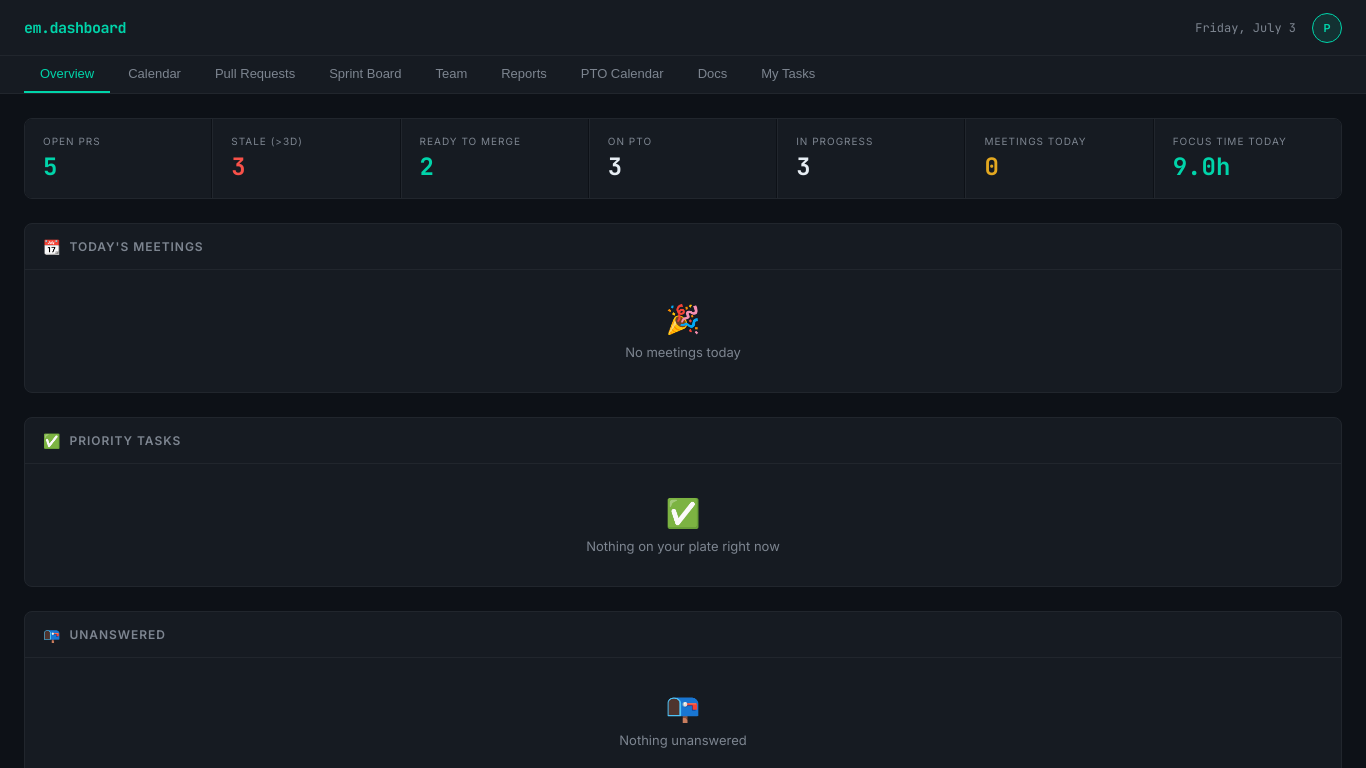
Scenario: App — tab navigation › has a Reports tab so ReportsManager is reachable
Expected: the text "Today's Meetings" is shown, 69,239 -> 204,254
Click the button "Reports" at (524, 74), box 485,56 -> 563,93
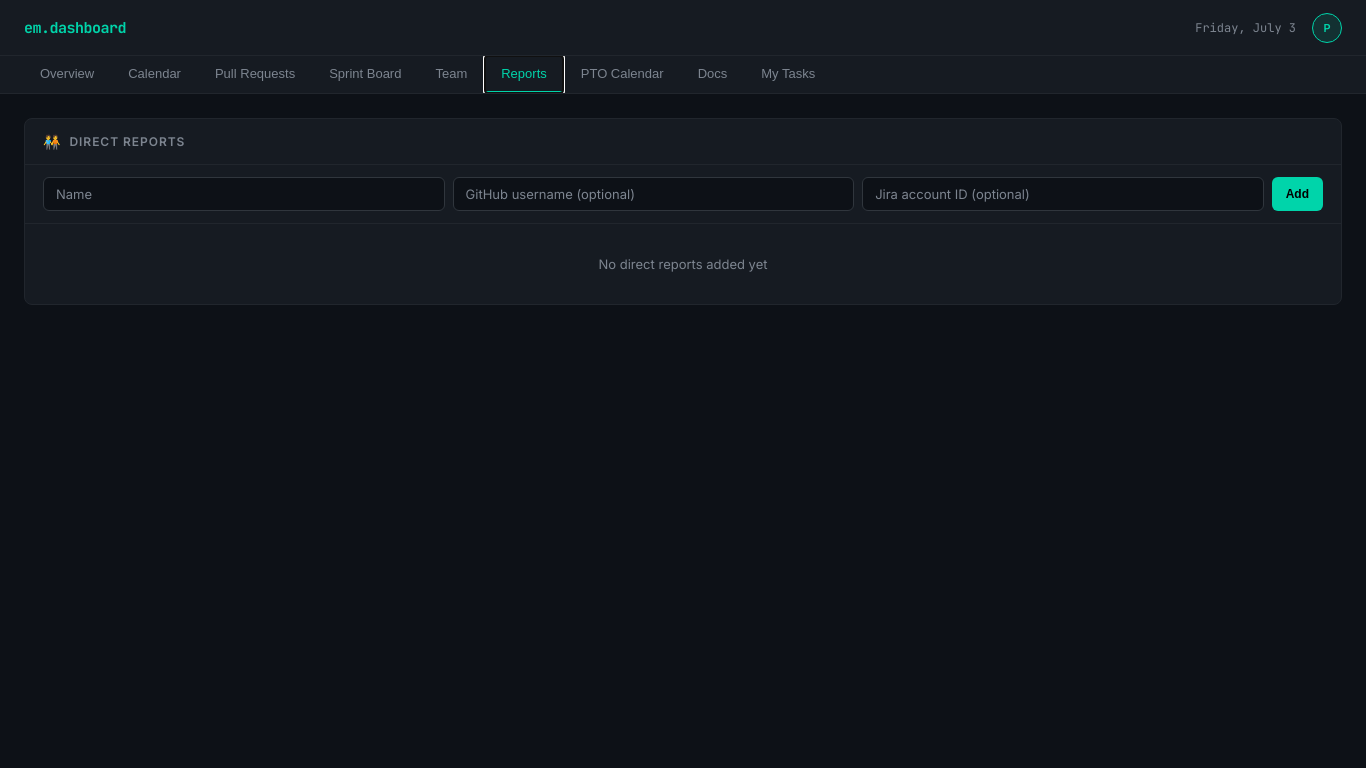
Expected: the field with placeholder "Name" is shown, 43,177 -> 445,211
